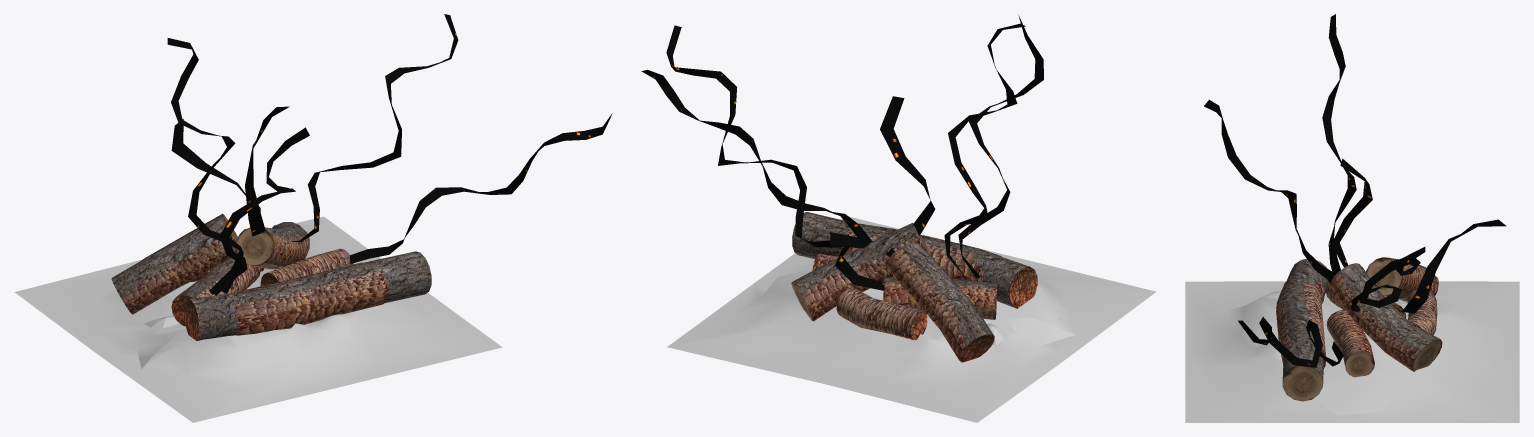
The model's file is Camp_Fire.fbx.
The picture shows the model from 3 angles, left to right: view 1: azimuth 30°, elevation 25°; view 2: azimuth 150°, elevation 25°; view 3: azimuth 270°, elevation 25°; orthographic projection. The views are drawn at different scales.
Visible parts, largest first — view 1: Embers, Logs_02, Logs_06, Sparks_06, Sparks_04, Sparks_08, Sparks_010, Logs_05, Logs_01, Logs_04, Sparks_012, End_09 (+2 smaller); view 2: Embers, Logs_06, Logs_02, Logs_05, Logs_03, Sparks_06, Sparks_010, Logs_01, Sparks_08, Sparks_012, Sparks_04, Sparks_02 (+5 smaller); view 3: Embers, Logs_05, Logs_02, Sparks_08, Sparks_06, Sparks_04, Sparks_010, Logs_04, End_01, Sparks_02, Sparks_012, Logs_03 (+7 smaller).
Part boxes in pixels (x1=…): Embers: x1=14, y1=216, x2=502, y2=422; Logs_02: x1=189, y1=251, x2=431, y2=340; Logs_06: x1=111, y1=213, x2=237, y2=314; Sparks_06: x1=350, y1=114, x2=611, y2=263; Sparks_04: x1=209, y1=127, x2=309, y2=295; Sparks_08: x1=167, y1=38, x2=243, y2=293; Sparks_010: x1=291, y1=14, x2=458, y2=241; Logs_05: x1=236, y1=222, x2=309, y2=269; Logs_01: x1=171, y1=258, x2=260, y2=325; Logs_04: x1=260, y1=248, x2=353, y2=285; Sparks_012: x1=245, y1=106, x2=289, y2=236; End_09: x1=237, y1=227, x2=273, y2=265; Embers: x1=667, y1=216, x2=1156, y2=422; Logs_06: x1=885, y1=242, x2=994, y2=362; Logs_02: x1=792, y1=212, x2=1029, y2=308; Logs_05: x1=791, y1=223, x2=931, y2=321; Logs_03: x1=836, y1=287, x2=927, y2=340; Sparks_06: x1=666, y1=25, x2=841, y2=247; Sparks_010: x1=641, y1=69, x2=872, y2=242; Logs_01: x1=884, y1=277, x2=996, y2=319; Sparks_08: x1=944, y1=23, x2=1025, y2=277; Sparks_012: x1=880, y1=96, x2=935, y2=257; Sparks_04: x1=958, y1=15, x2=1043, y2=279; Sparks_02: x1=830, y1=232, x2=884, y2=290; Embers: x1=1185, y1=281, x2=1519, y2=422; Logs_05: x1=1330, y1=263, x2=1442, y2=371; Logs_02: x1=1276, y1=259, x2=1327, y2=383; Sparks_08: x1=1322, y1=14, x2=1356, y2=290; Sparks_06: x1=1238, y1=317, x2=1343, y2=367; Sparks_04: x1=1204, y1=99, x2=1333, y2=283; Sparks_010: x1=1349, y1=247, x2=1425, y2=312; Logs_04: x1=1326, y1=310, x2=1374, y2=377; End_01: x1=1282, y1=365, x2=1322, y2=401; Sparks_02: x1=1398, y1=219, x2=1506, y2=313; Sparks_012: x1=1331, y1=158, x2=1381, y2=288; Logs_03: x1=1407, y1=289, x2=1437, y2=335.
Bounding box in the file's own units: 2.8 × 1.86 × 1.92.
